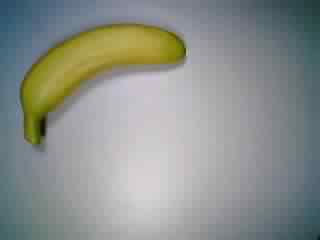banana: (15, 18, 192, 151)
